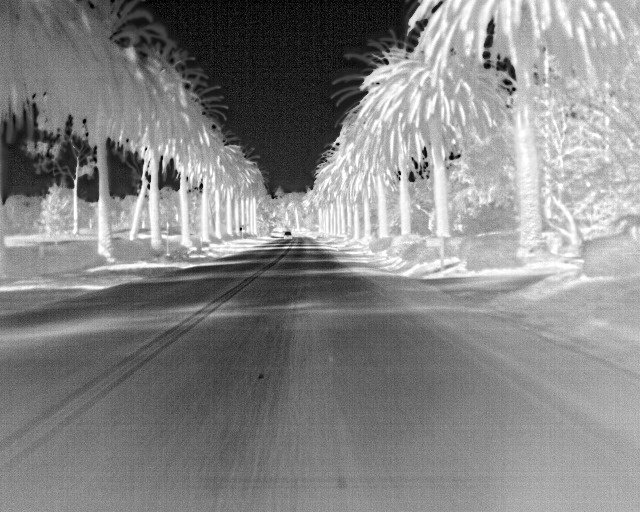car: (282, 225, 297, 239)
